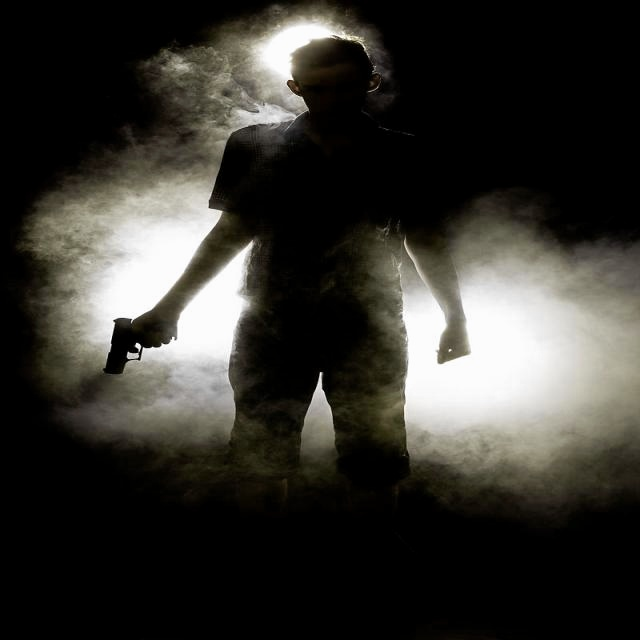gun: (88, 301, 194, 388)
